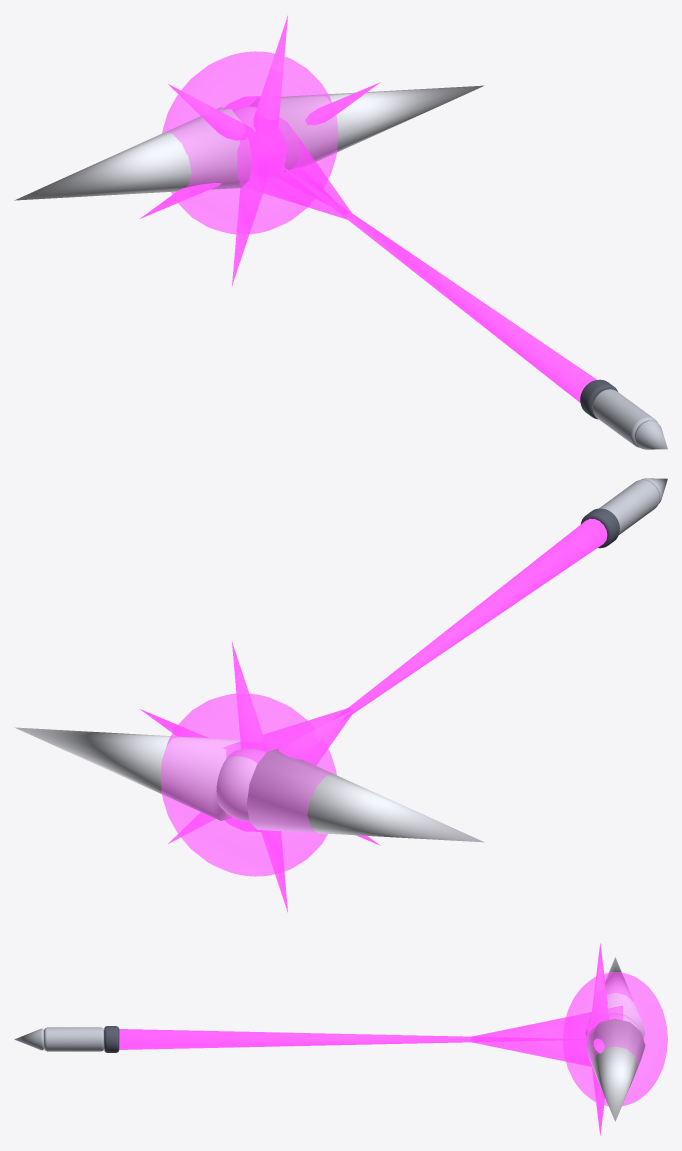
The model's file is GravitySniper_Bolt.fbx.
3 views of the same model, one above another, from view 1: azimuth 30°, elevation 25°; view 2: azimuth 150°, elevation 25°; view 3: azimuth 270°, elevation 25° (orthographic). The views are drawn at different scales.
Parts seen in each view (by area): view 1: GravitySniper_Bolt_Pro_Glass_pink_0.4, GravitySniper_Bolt_Pro_Glow_white_10, GravitySniper_Bolt_Pro_Glow_pink_14, GravitySniper_Bolt_Pro_Glass_pink_0.5, GravitySniper_Bolt_Pro_Metal_Silver; view 2: GravitySniper_Bolt_Pro_Glass_pink_0.4, GravitySniper_Bolt_Pro_Glow_white_10, GravitySniper_Bolt_Pro_Glow_pink_14, GravitySniper_Bolt_Pro_Glass_pink_0.5, GravitySniper_Bolt_Pro_Glow_white_25, GravitySniper_Bolt_Pro_Metal_Silver, GravitySniper_Bolt_Pro_Metal_Gunmetal; view 3: GravitySniper_Bolt_Pro_Glass_pink_0.4, GravitySniper_Bolt_Pro_Glow_pink_14, GravitySniper_Bolt_Pro_Glow_white_10, GravitySniper_Bolt_Pro_Glass_pink_0.5, GravitySniper_Bolt_Pro_Metal_Silver, GravitySniper_Bolt_Pro_Metal_Gunmetal.
Boxes of the visible parts, <box> form: GravitySniper_Bolt_Pro_Glass_pink_0.4: <box>162,51,338,234</box>; GravitySniper_Bolt_Pro_Glow_white_10: <box>14,85,484,200</box>; GravitySniper_Bolt_Pro_Glow_pink_14: <box>140,15,596,402</box>; GravitySniper_Bolt_Pro_Glass_pink_0.5: <box>222,96,351,219</box>; GravitySniper_Bolt_Pro_Metal_Silver: <box>592,389,667,449</box>; GravitySniper_Bolt_Pro_Glass_pink_0.4: <box>161,693,336,876</box>; GravitySniper_Bolt_Pro_Glow_white_10: <box>14,727,484,842</box>; GravitySniper_Bolt_Pro_Glow_pink_14: <box>140,518,607,912</box>; GravitySniper_Bolt_Pro_Glass_pink_0.5: <box>223,708,352,831</box>; GravitySniper_Bolt_Pro_Glow_white_25: <box>216,749,265,821</box>; GravitySniper_Bolt_Pro_Metal_Silver: <box>599,478,667,534</box>; GravitySniper_Bolt_Pro_Metal_Gunmetal: <box>580,508,619,548</box>; GravitySniper_Bolt_Pro_Glass_pink_0.4: <box>563,972,667,1106</box>; GravitySniper_Bolt_Pro_Glow_pink_14: <box>119,943,608,1135</box>; GravitySniper_Bolt_Pro_Glow_white_10: <box>585,957,645,1121</box>; GravitySniper_Bolt_Pro_Glass_pink_0.5: <box>471,1006,622,1066</box>; GravitySniper_Bolt_Pro_Metal_Silver: <box>14,1027,104,1051</box>; GravitySniper_Bolt_Pro_Metal_Gunmetal: <box>104,1026,119,1052</box>.
Bounding box in the file's own units: 0.26 × 0.1365 × 0.435.
